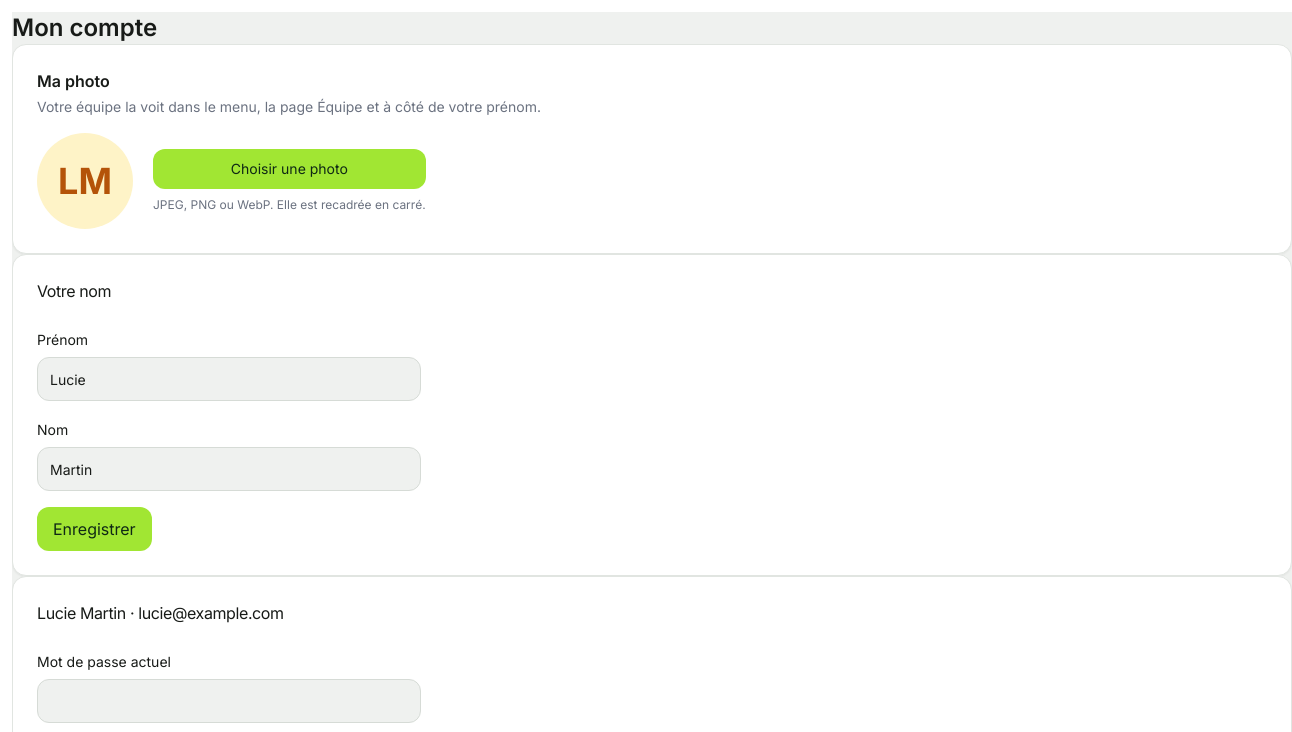
Scenario: Mon compte : votre nom › enregistre le prénom et le nom, puis relit le compte
The image size is (1292, 732).
Expected: the text "Votre nom" is shown, x1=37 y1=281 x2=111 y2=301
Expected: the field labelled "Prénom" holds "Lucie", x1=37 y1=357 x2=421 y2=401
Replace the text in the field labelled "Nom" with " Martin-Durand " at (229, 469), box x1=37 y1=447 x2=421 y2=491
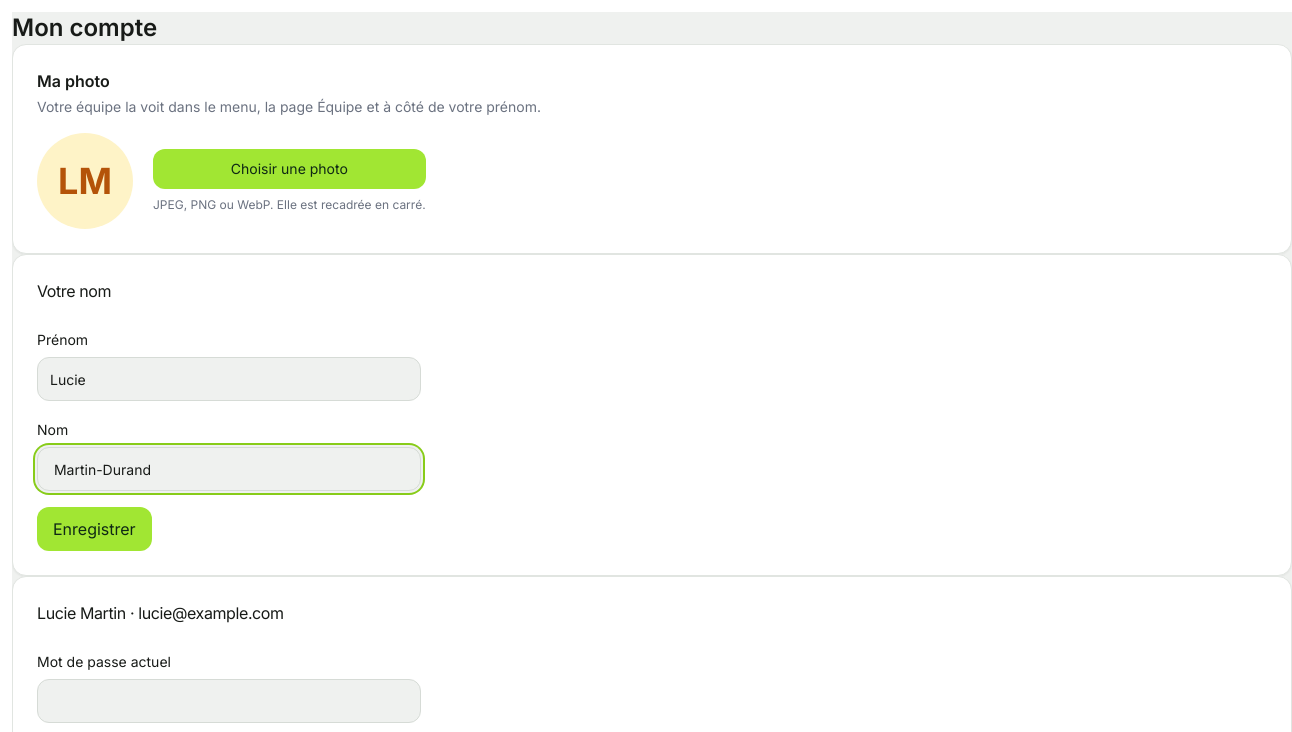
Click the button "Enregistrer" at (94, 529), box x1=37 y1=507 x2=152 y2=551
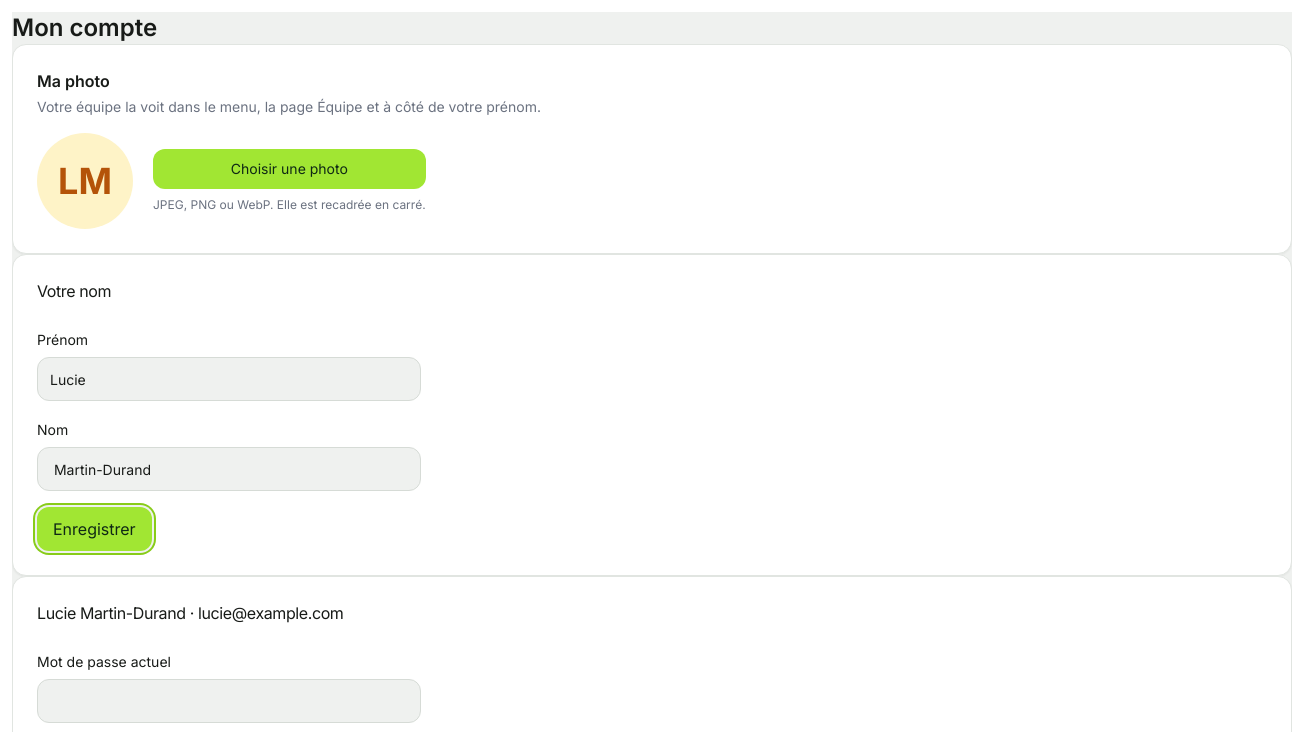
Result: the text "Lucie Martin-Durand · lucie@example.com" is shown at x1=37 y1=603 x2=344 y2=623
